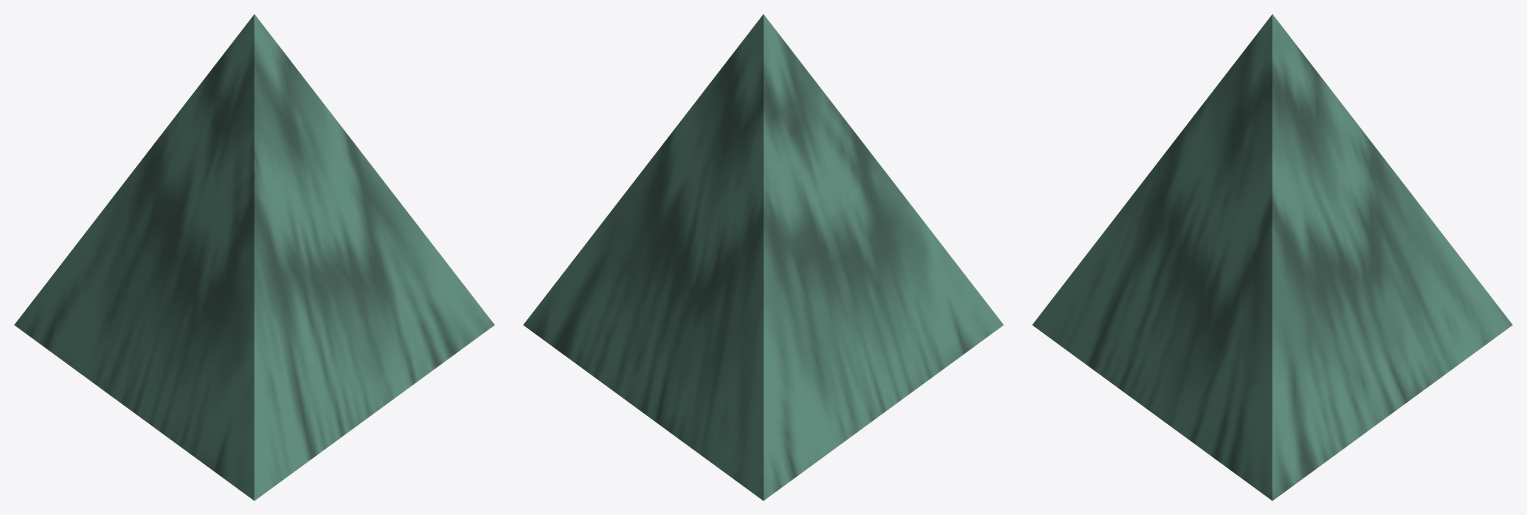
Rendered from env_Coniferous_Part_D.FBX.
3 renders of one model, left to right at view 1: azimuth 30°, elevation 25°; view 2: azimuth 150°, elevation 25°; view 3: azimuth 270°, elevation 25°, orthographic.
Visible parts, largest first — view 1: env_Coniferous_Part_D; view 2: env_Coniferous_Part_D; view 3: env_Coniferous_Part_D.
Part boxes in pixels (left/top/right/bottom): env_Coniferous_Part_D: left=14, top=14, right=494, bottom=500; env_Coniferous_Part_D: left=523, top=14, right=1003, bottom=500; env_Coniferous_Part_D: left=1032, top=14, right=1512, bottom=500.
Size of the model in its own units: 320 by 314 by 370.
